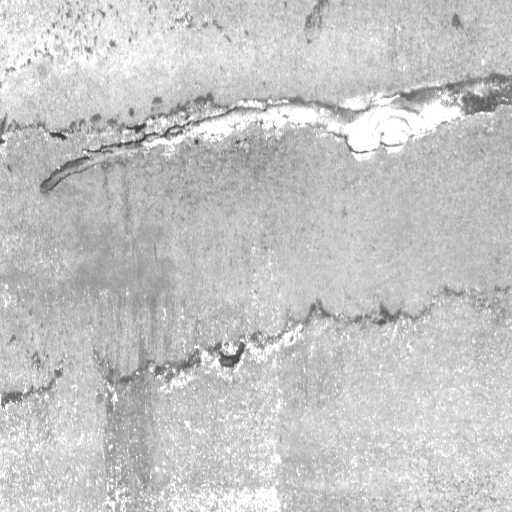qiaopi: (34, 71, 512, 197)
